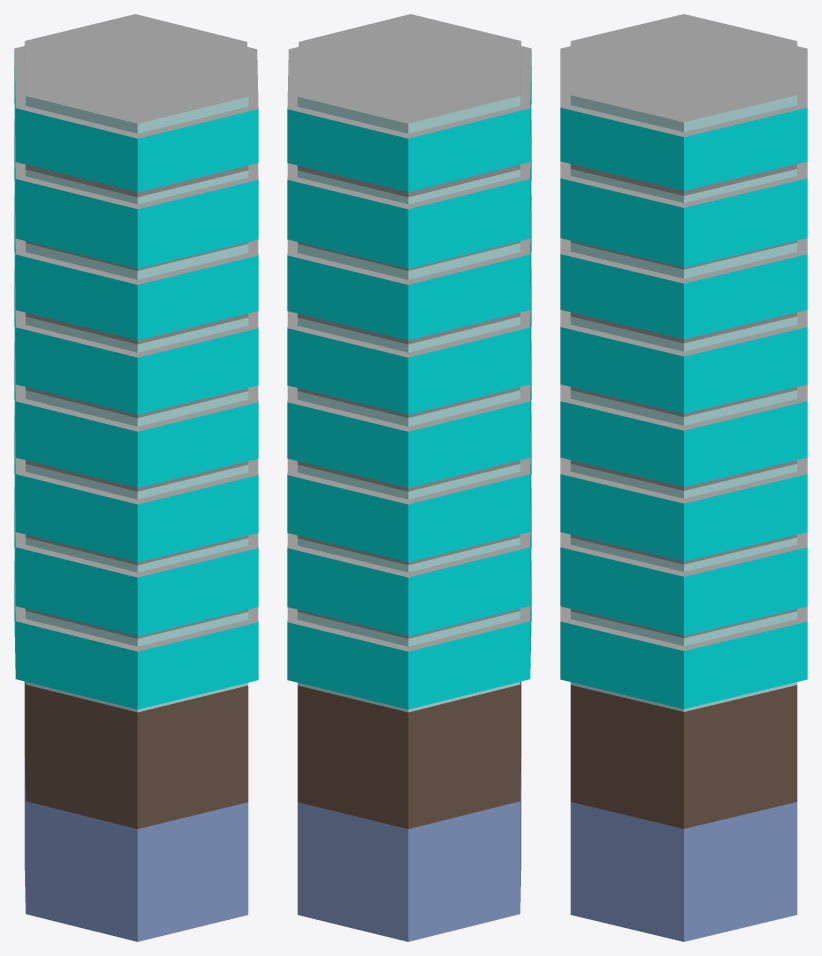
The model's file is Tower1.fbx.
The picture shows the model from 3 angles, left to right: view 1: azimuth 30°, elevation 25°; view 2: azimuth 150°, elevation 25°; view 3: azimuth 270°, elevation 25°; orthographic projection.
Visible parts, largest first — view 1: Tower1; view 2: Tower1; view 3: Tower1.
Part boxes in pixels (x1,y1,x2,y2): Tower1: [14, 14, 258, 941]; Tower1: [287, 14, 531, 941]; Tower1: [560, 14, 807, 941].
Bounding box in the file's own units: 247 × 802 × 219.
